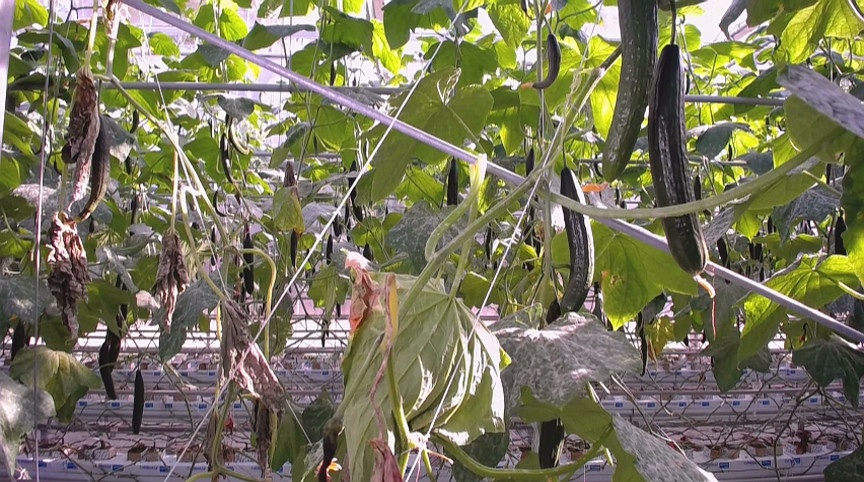cucumber: (649, 43, 708, 277), (604, 1, 659, 184), (557, 163, 595, 319), (78, 119, 110, 221), (538, 418, 567, 472), (534, 36, 562, 90), (130, 370, 145, 436), (241, 233, 256, 297), (446, 156, 461, 208)
